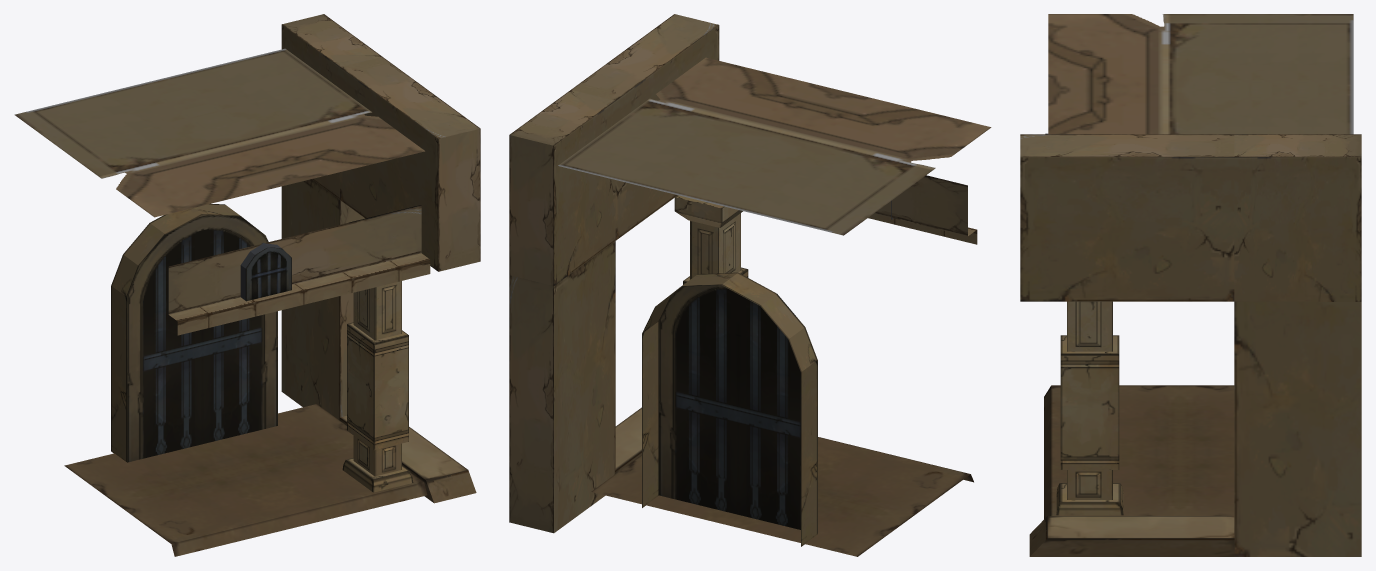
Rendered from 2_DG_JianYu_01.FBX.
3 renders of one model, left to right at view 1: azimuth 30°, elevation 25°; view 2: azimuth 150°, elevation 25°; view 3: azimuth 270°, elevation 25°, orthographic. The views are drawn at different scales.
Parts seen in each view (by area): view 1: 2_DG_JianYu_01_05, 2_DG_JianYu_01_02, 2_DG_JianYu_01_03, 2_DG_JianYu_01_07, 2_DG_JianYu_01_01, 2_DG_JianYu_01_06, 2_DG_JianYu_01_04; view 2: 2_DG_JianYu_01_02, 2_DG_JianYu_01_05, 2_DG_JianYu_01_03, 2_DG_JianYu_01_07, 2_DG_JianYu_01_01, 2_DG_JianYu_01_06; view 3: 2_DG_JianYu_01_02, 2_DG_JianYu_01_05, 2_DG_JianYu_01_07, 2_DG_JianYu_01_01, 2_DG_JianYu_01_06.
Part boxes in pixels (left/top/right/bottom): 2_DG_JianYu_01_05: left=14, top=48, right=430, bottom=335; 2_DG_JianYu_01_02: left=281, top=14, right=480, bottom=420; 2_DG_JianYu_01_03: left=111, top=203, right=277, bottom=462; 2_DG_JianYu_01_07: left=64, top=404, right=427, bottom=556; 2_DG_JianYu_01_01: left=342, top=281, right=413, bottom=492; 2_DG_JianYu_01_06: left=339, top=416, right=476, bottom=503; 2_DG_JianYu_01_04: left=240, top=242, right=291, bottom=301; 2_DG_JianYu_01_02: left=509, top=14, right=719, bottom=533; 2_DG_JianYu_01_05: left=558, top=57, right=991, bottom=244; 2_DG_JianYu_01_03: left=642, top=272, right=817, bottom=546; 2_DG_JianYu_01_07: left=591, top=437, right=973, bottom=556; 2_DG_JianYu_01_01: left=674, top=195, right=748, bottom=284; 2_DG_JianYu_01_06: left=615, top=407, right=641, bottom=473; 2_DG_JianYu_01_02: left=1020, top=134, right=1361, bottom=556; 2_DG_JianYu_01_05: left=1048, top=14, right=1353, bottom=134; 2_DG_JianYu_01_07: left=1044, top=385, right=1234, bottom=518; 2_DG_JianYu_01_01: left=1056, top=301, right=1123, bottom=515; 2_DG_JianYu_01_06: left=1029, top=516, right=1234, bottom=556.
Size of the model in its own units: 738 by 826 by 638.
